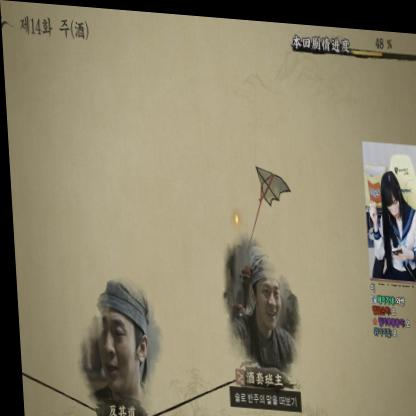streamer: (365, 162, 416, 276)
